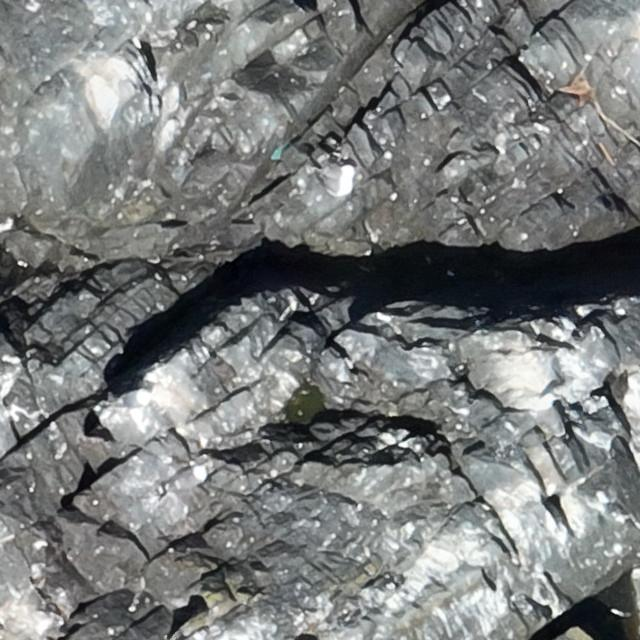umineko: (314, 154, 359, 194), (163, 466, 204, 493)
